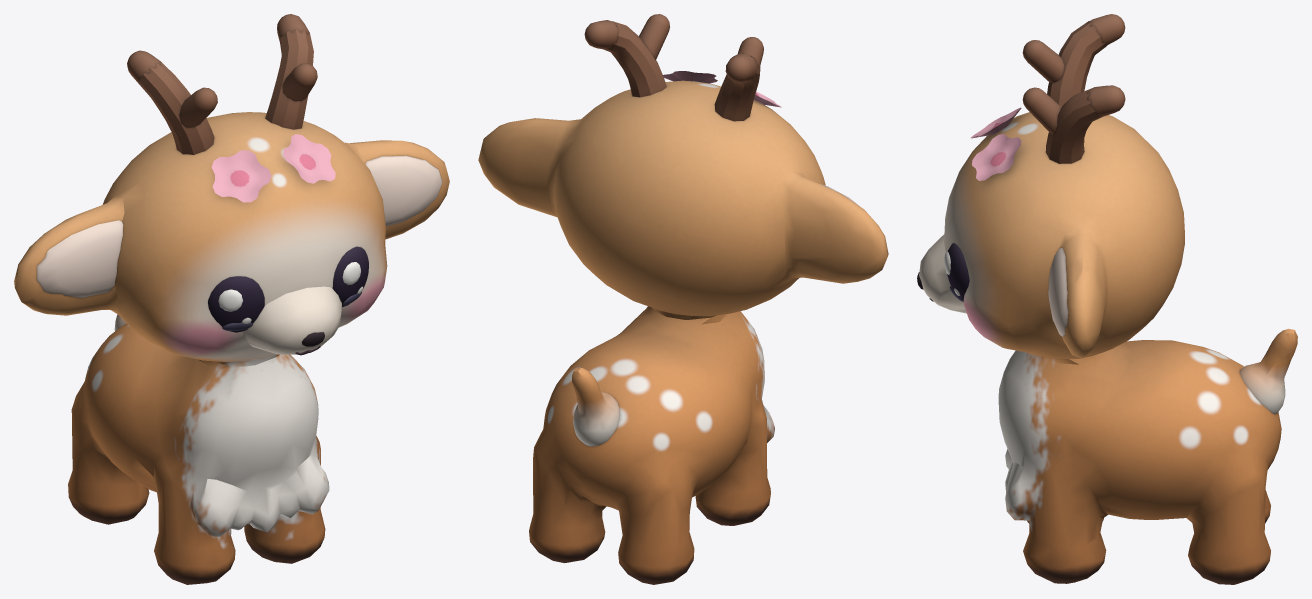
Rendered from creature_deer.fbx.
The picture shows the model from 3 angles, left to right: view 1: azimuth 30°, elevation 25°; view 2: azimuth 150°, elevation 25°; view 3: azimuth 270°, elevation 25°; orthographic projection. The views are drawn at different scales.
Visible parts, largest first — view 1: creature_deer; view 2: creature_deer; view 3: creature_deer.
Boxes of the visible parts, left/top/right/bottom form: creature_deer: left=14, top=14, right=449, bottom=584; creature_deer: left=478, top=14, right=888, bottom=584; creature_deer: left=917, top=14, right=1297, bottom=584.
Size of the model in its own units: 438 by 500 by 340.
Materials: 1 (1 with a texture image).
